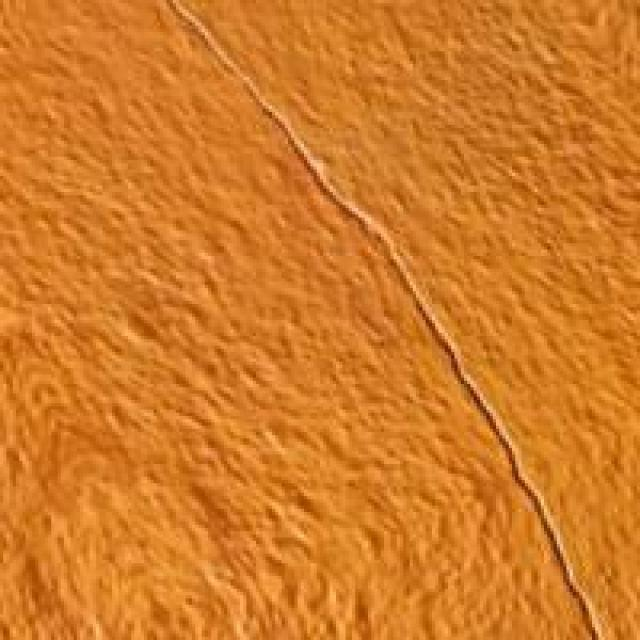crack: (256, 109, 595, 611)
